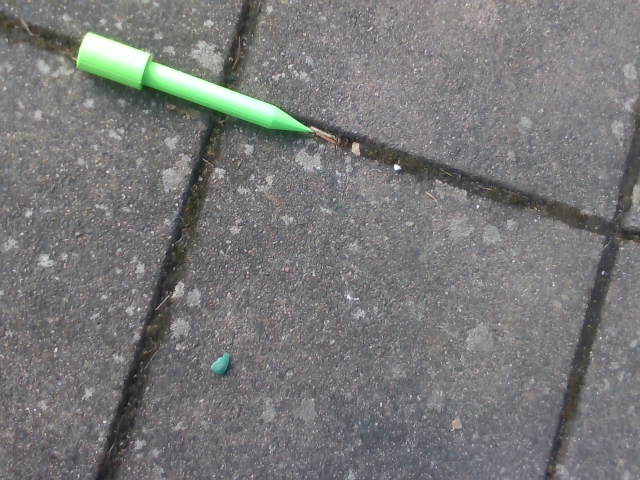Probe: (69, 28, 320, 145)
